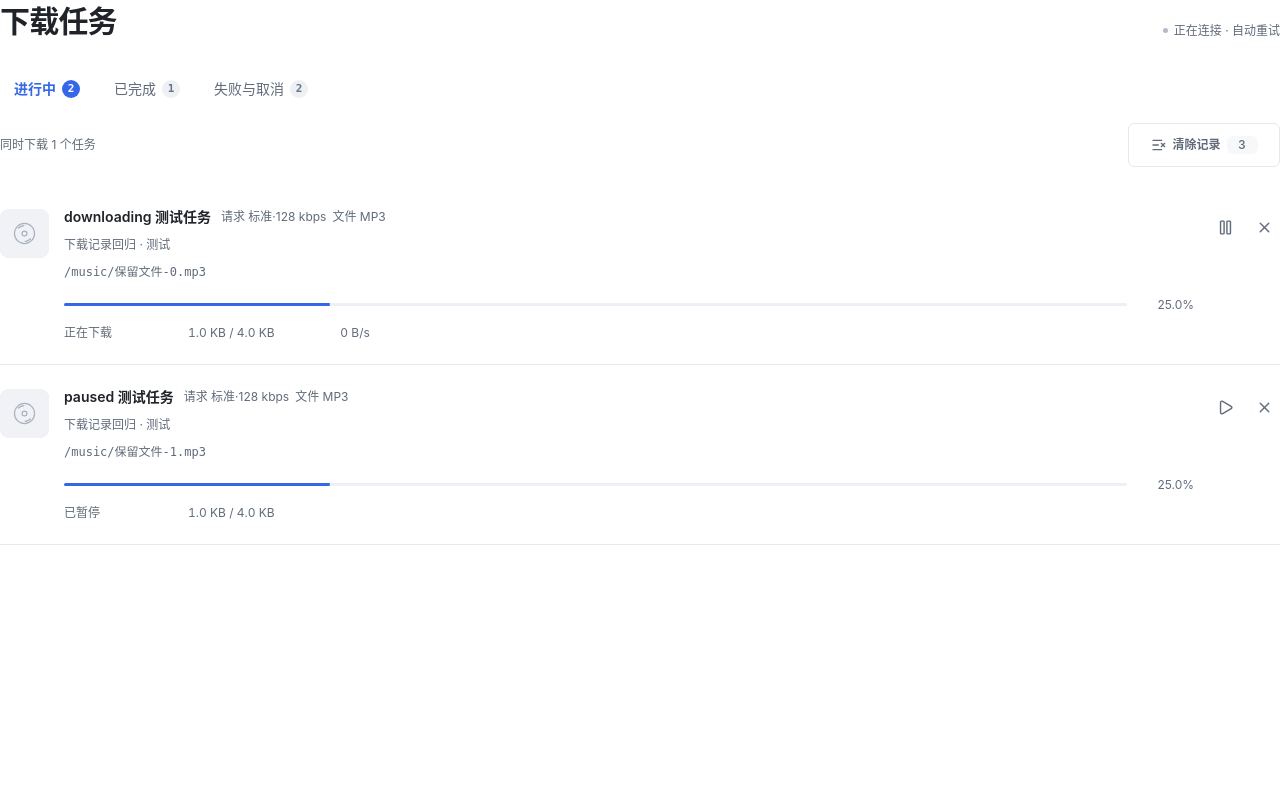
Test: 确认清晰说明跨标签全部终态、保留活动及暂停、不删任何文件，取消不发送
The width and height of the screenshot is (1280, 800).
Click the button with aria-label "清除记录，共".
click(1204, 144)  # box 1128,122 -> 1279,166
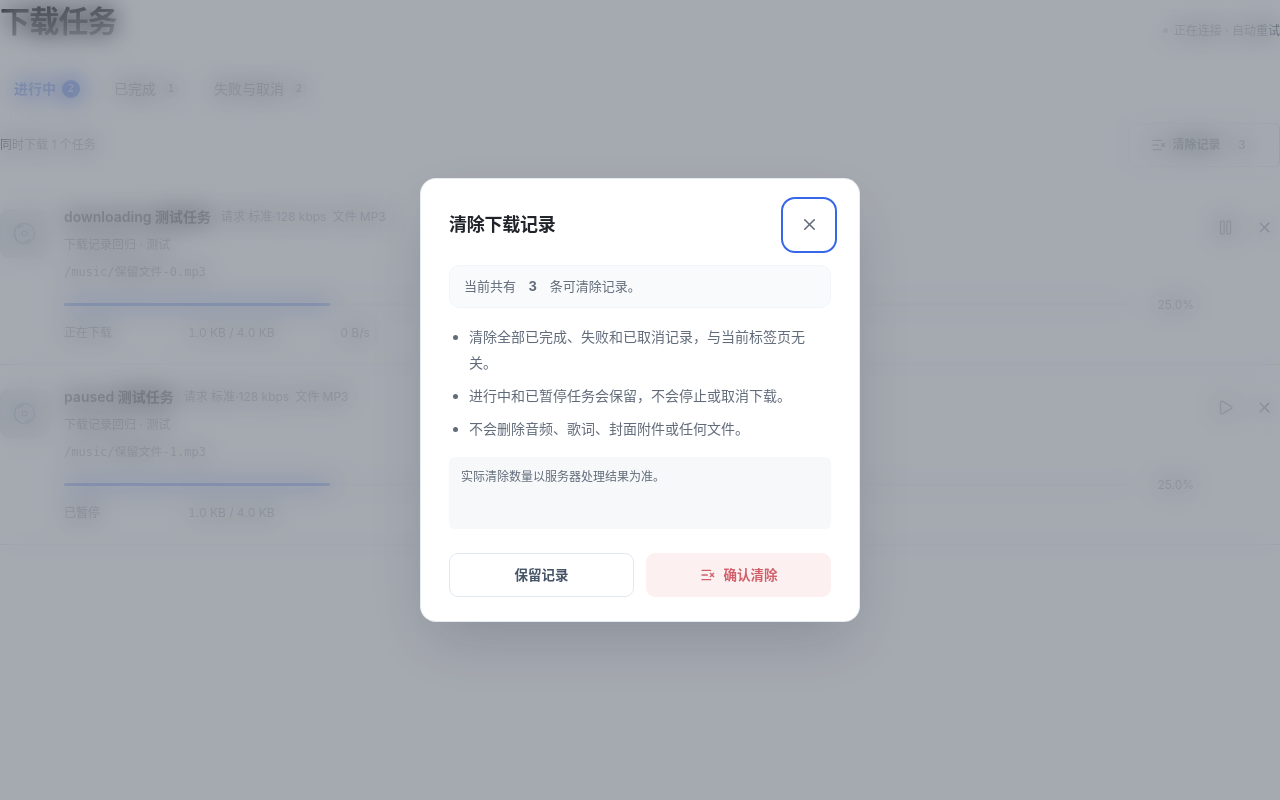
Check: the list item "清除全部已完成、失败和已取消记录，与当前标签页无关。" is shown, box 469,324 -> 831,375
Check: the list item "进行中和已暂停任务会保留，不会停止或取消下载。" is shown, box 469,383 -> 831,408
Check: the list item "不会删除音频、歌词、封面附件或任何文件。" is shown, box 469,420 -> 749,437
Click the button "保留记录".
click(542, 575)  # box 449,553 -> 634,597
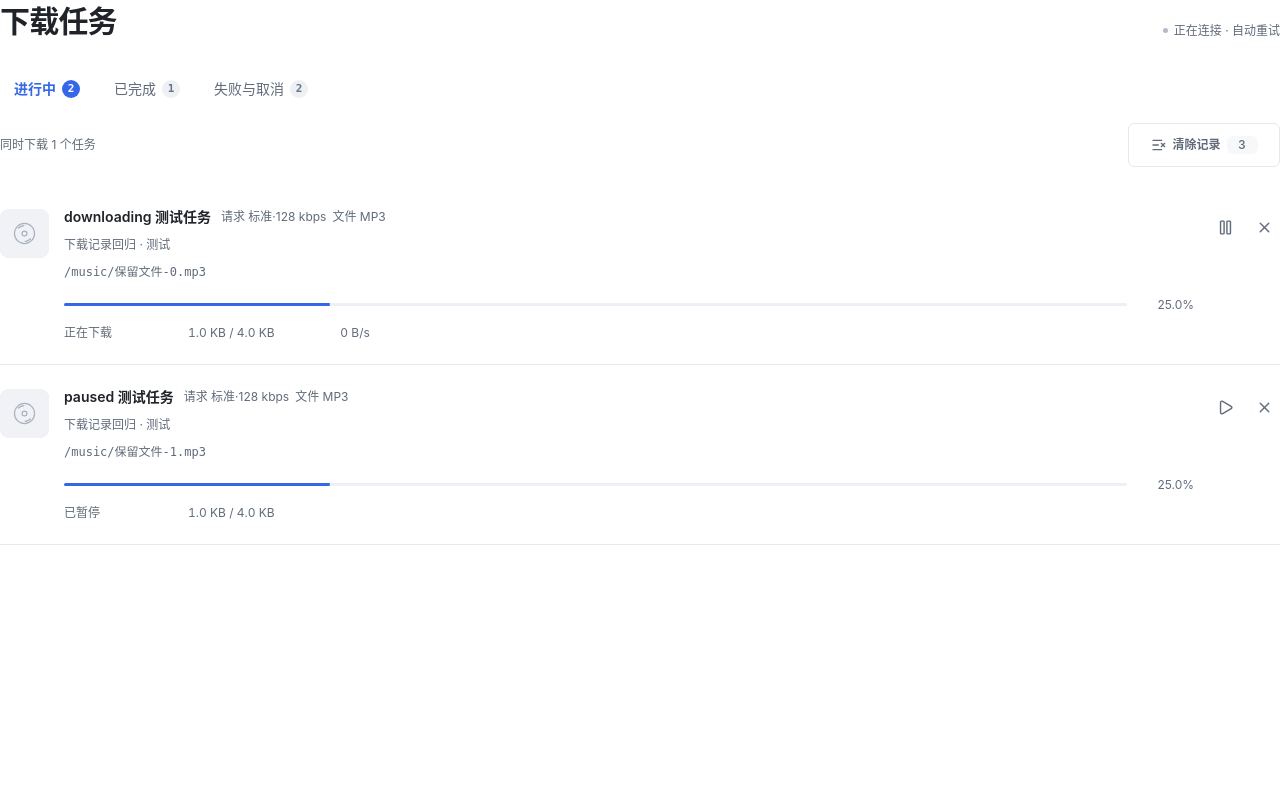
Check: the dialog is gone
